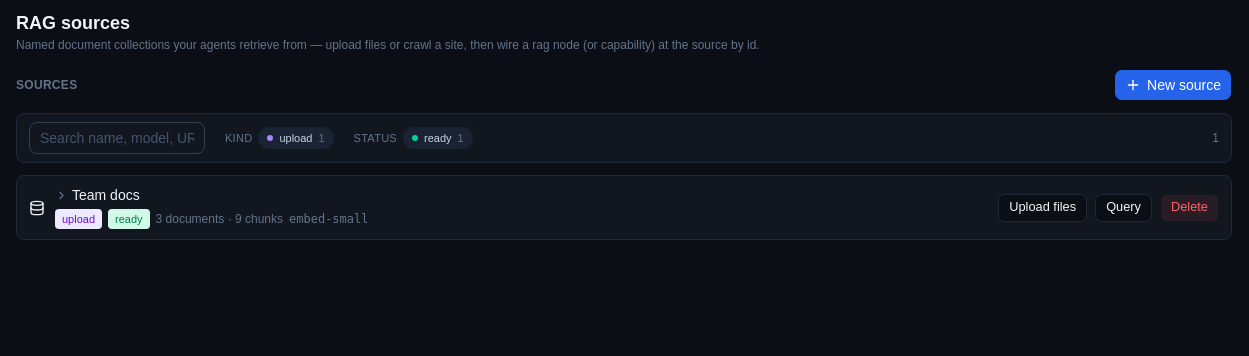
RAG page — document list › loads documents a page at a time and follows next_after on Load more
Click the button titled "Show documents": (97, 196) [55,186,140,205]
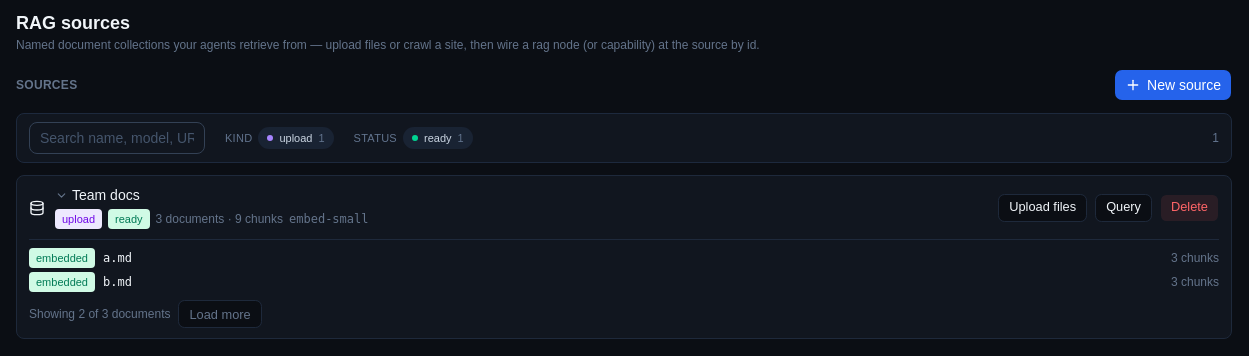
expect the text "a.md" is shown: met, box [103,250,132,266]
expect the text "b.md" is shown: met, box [103,274,132,290]
expect the text "Showing 2 of 3 documents" is shown: met, box [29,306,170,322]
Click the button "Load more": (220, 314) [178,300,262,328]
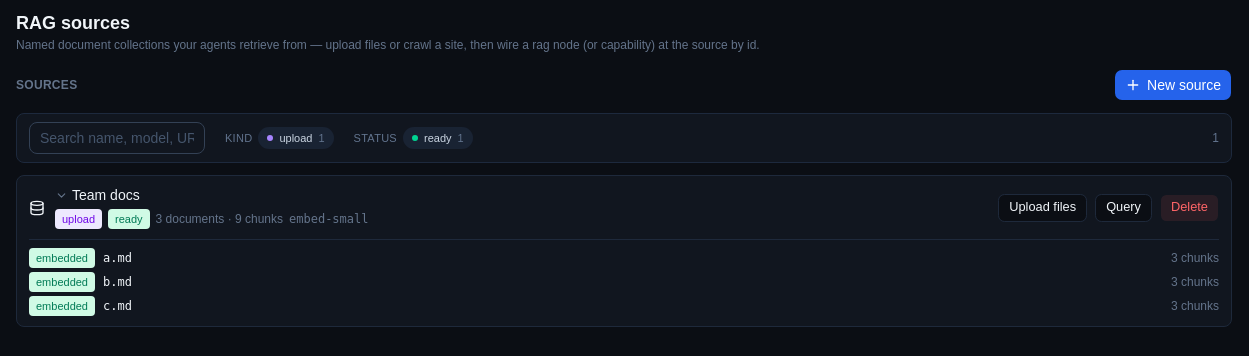
expect the text "c.md" is shown: met, box [103,298,132,314]
expect the button "Load more" is gone: met
expect the text "Showing" is gone: met
